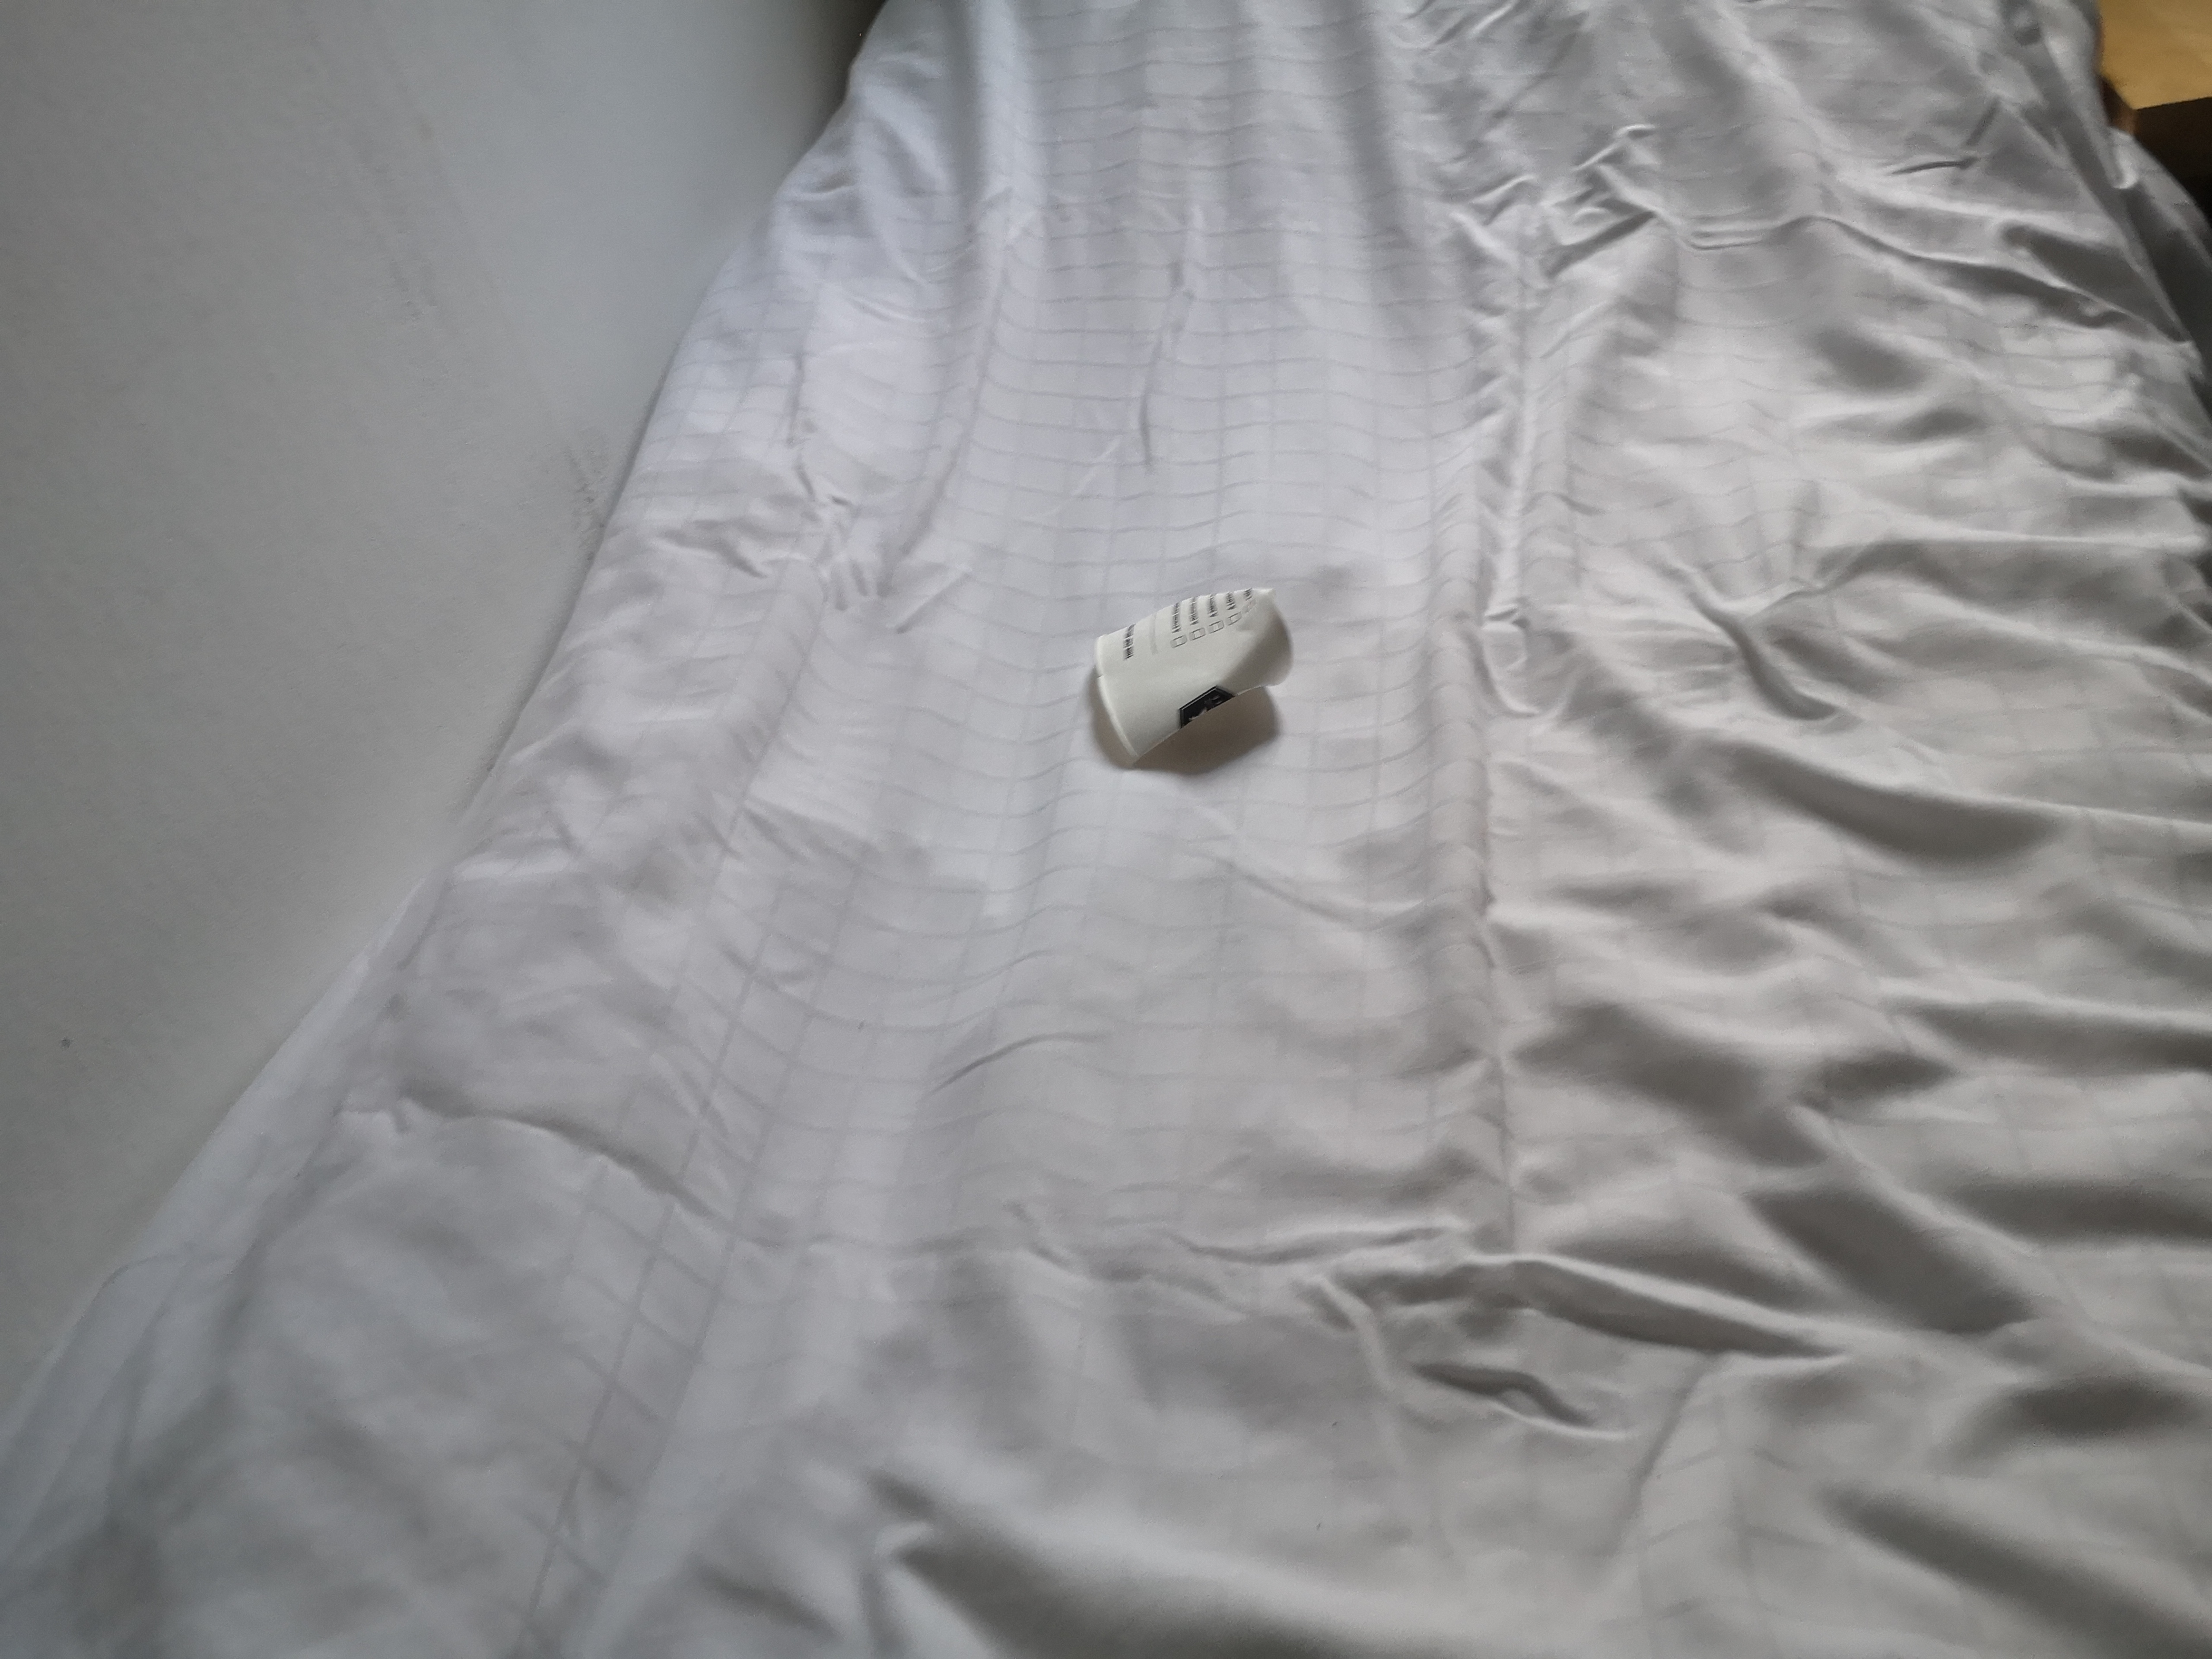cup: (1076, 565, 1301, 774)
